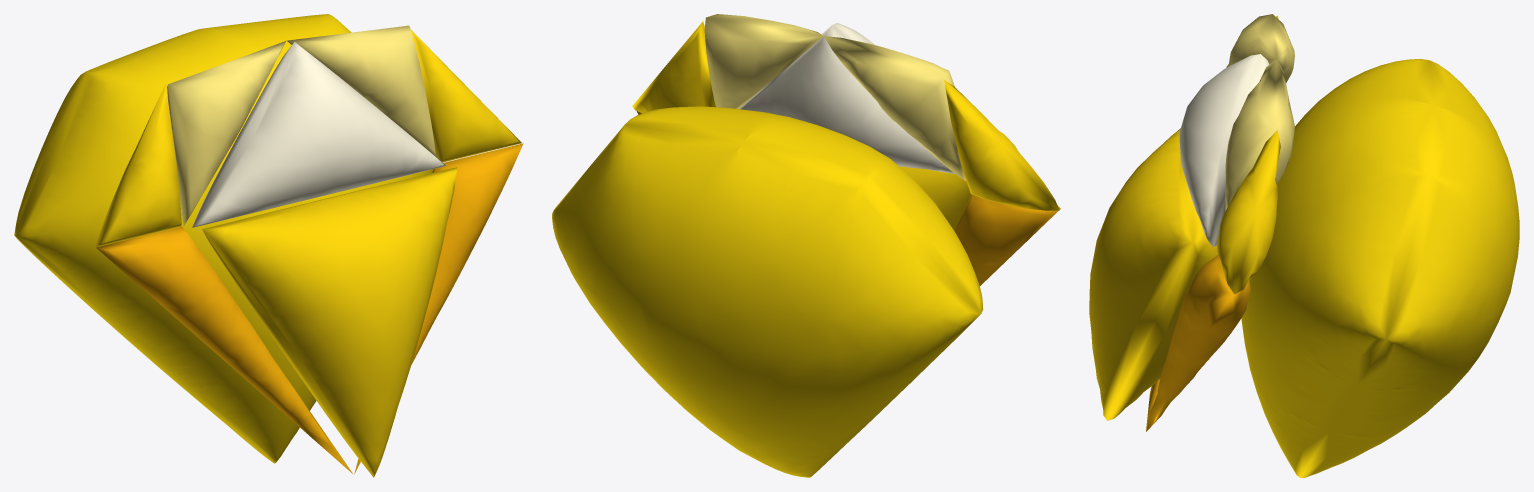
The model's file is sketchmodel.glb.
3 views of the same model, side by side, from view 1: azimuth 30°, elevation 25°; view 2: azimuth 150°, elevation 25°; view 3: azimuth 270°, elevation 25° (orthographic). The views are drawn at different scales.
Parts seen in each view (by area): view 1: vector; view 2: vector; view 3: vector.
Part boxes in pixels (bbox=[...]): vector: bbox=[14, 14, 523, 477]; vector: bbox=[552, 14, 1060, 477]; vector: bbox=[1089, 14, 1519, 477].
Size of the model in its own units: 25.07 by 24.46 by 22.51.
1 material, 1 textured.
